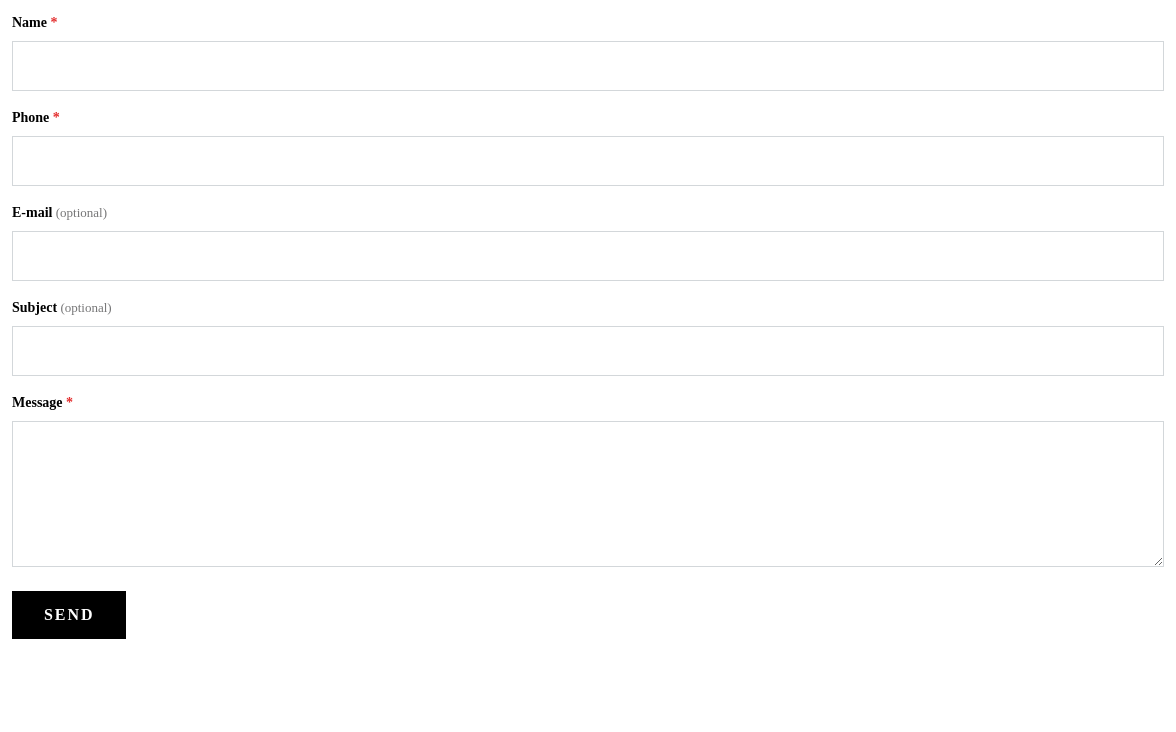
Test: forms drawn from the API › a request that fails (offline, an error page) shows a message and keeps what was typed (en)
The image size is (1176, 732).
Type "Hello" into the field labelled "Name" at (588, 66), box [12,41,1164,91]
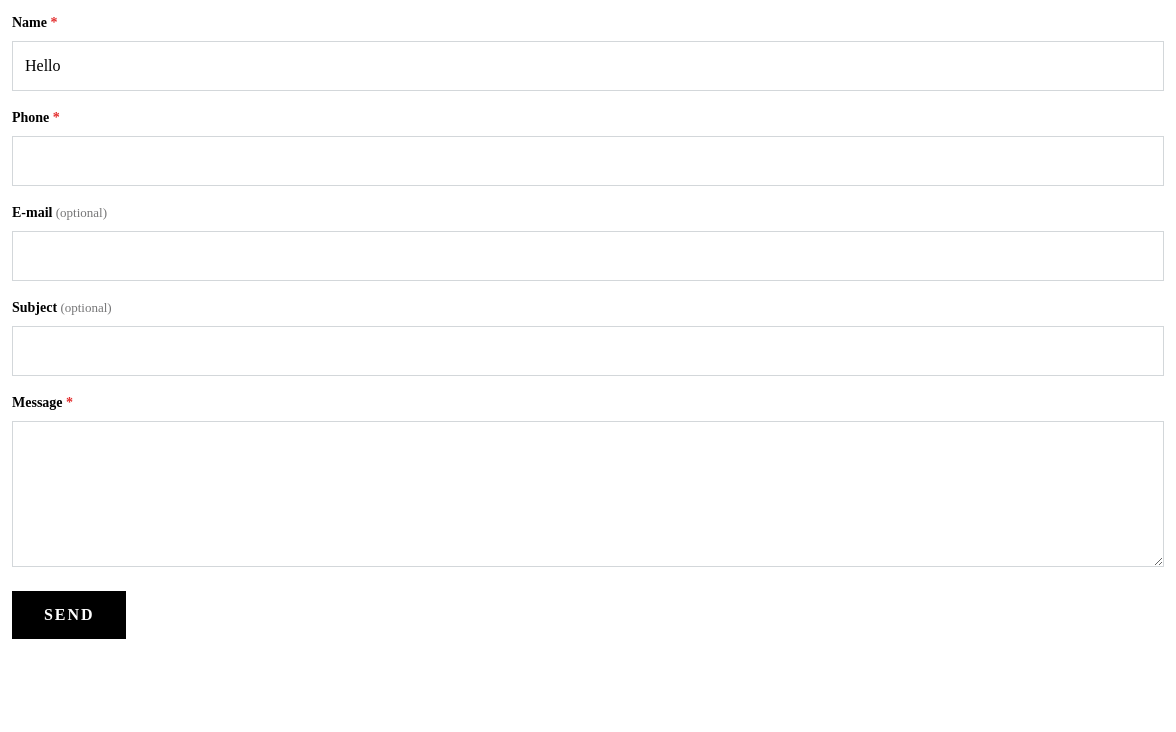
Type "01000000001" into the field labelled "Phone" at (588, 161), box [12,136,1164,186]
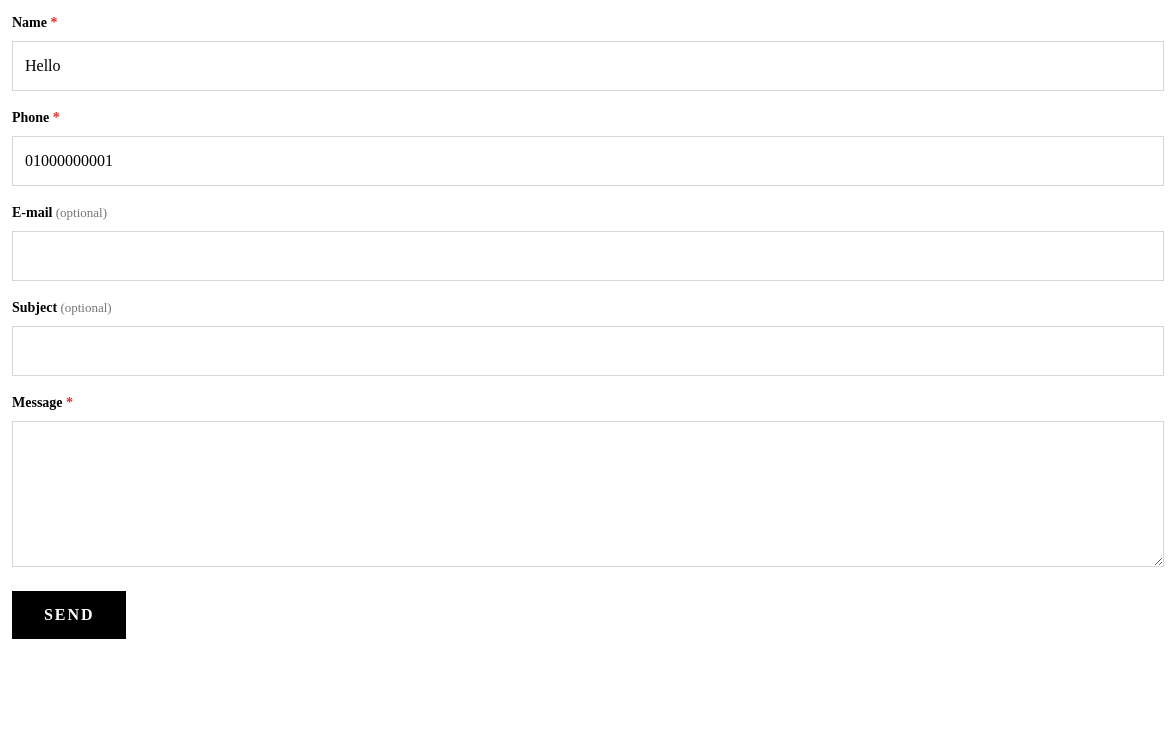
Type "mona@example.com" into the field labelled "E-mail (optional)" at (588, 256), box [12,231,1164,281]
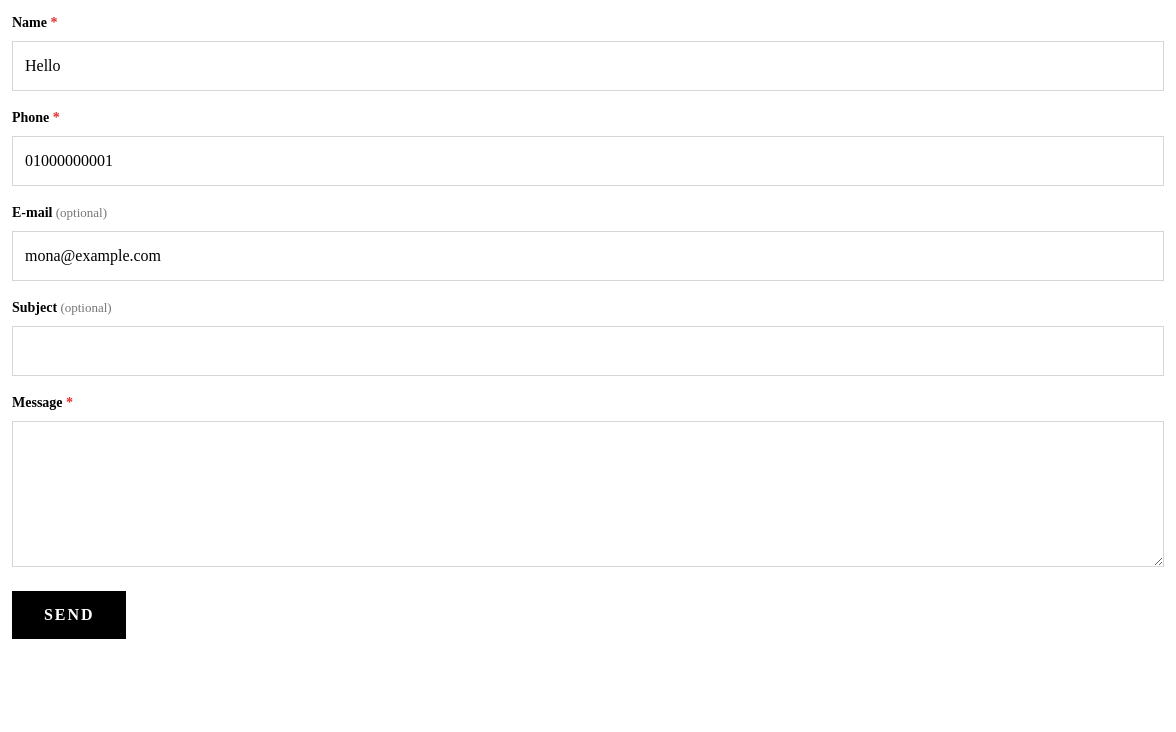
Type "Hello" into the field labelled "Subject (optional)" at (588, 351), box [12,326,1164,376]
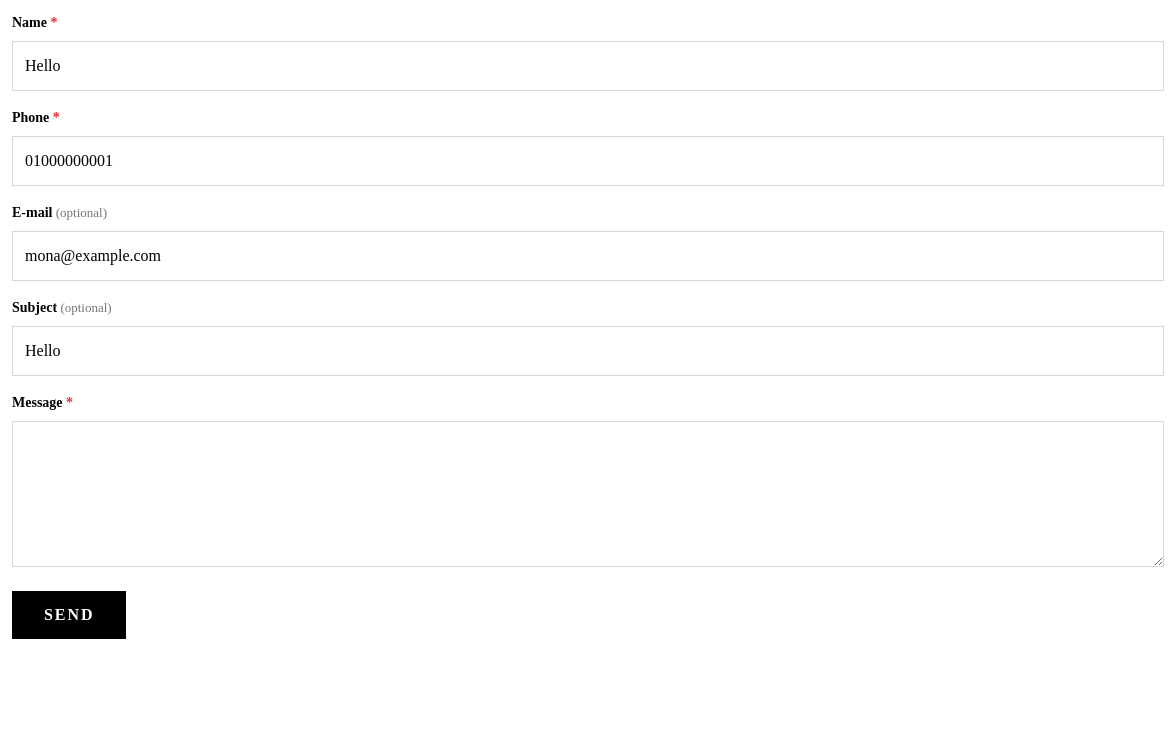
Type "Hello" into the text box labelled "Message" at (588, 494), box [12,421,1164,567]
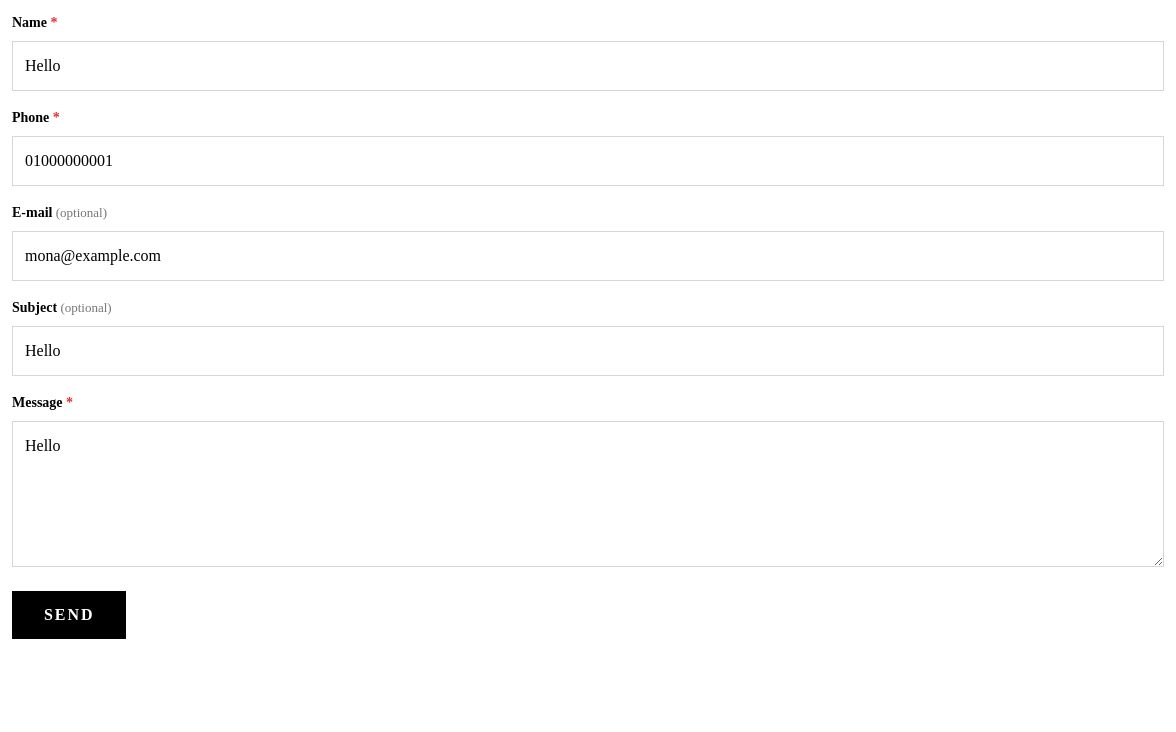
Submit the form with test id "contact-form"
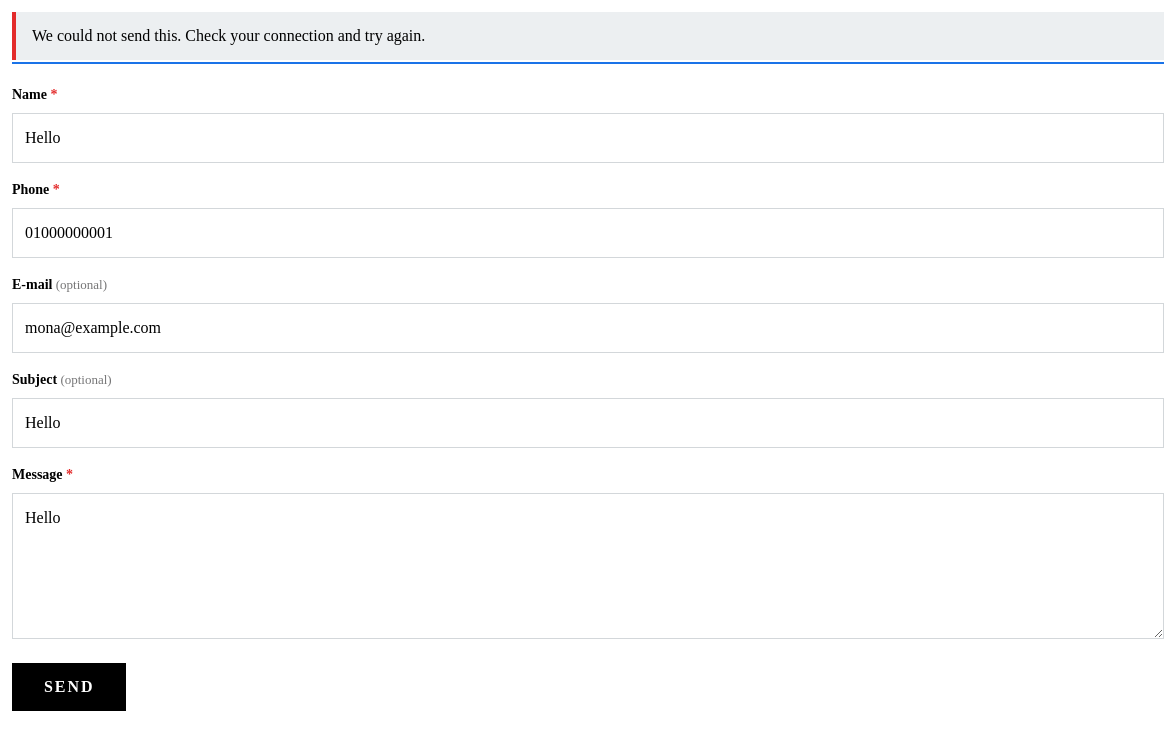
Expected: the message with test id "contact-form-message" reads "We could not send this. Check your connection and try again.", [32,27,425,44]
